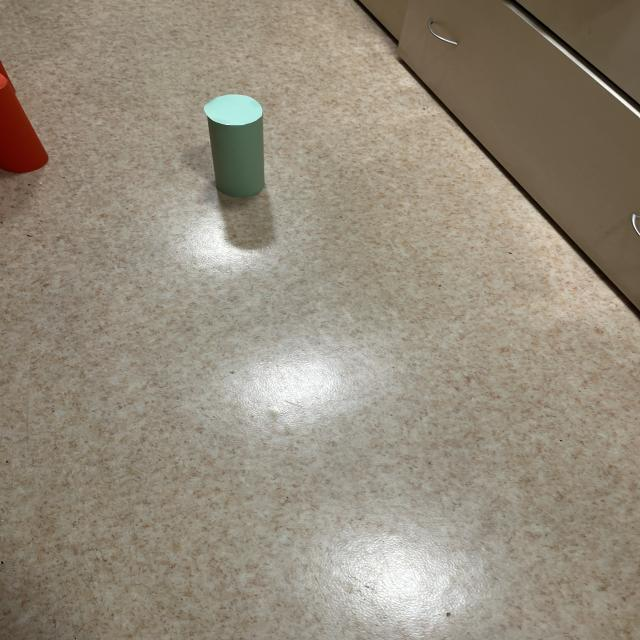meta: (204, 94, 264, 197)
